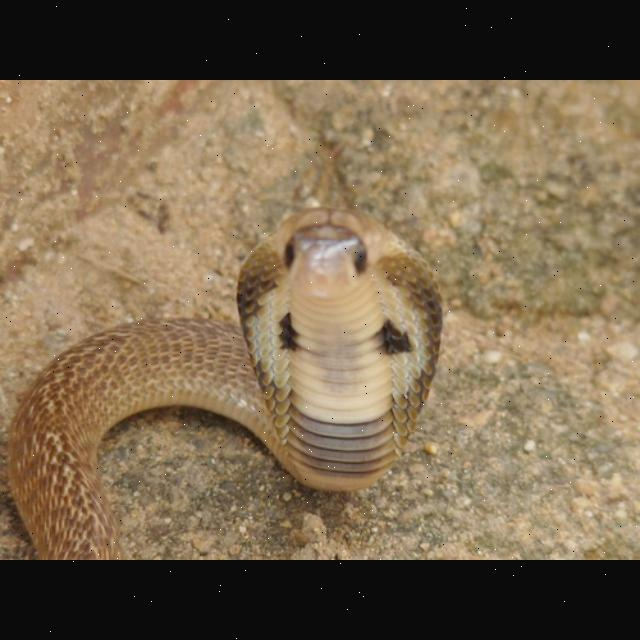snake: (4, 204, 452, 560)
